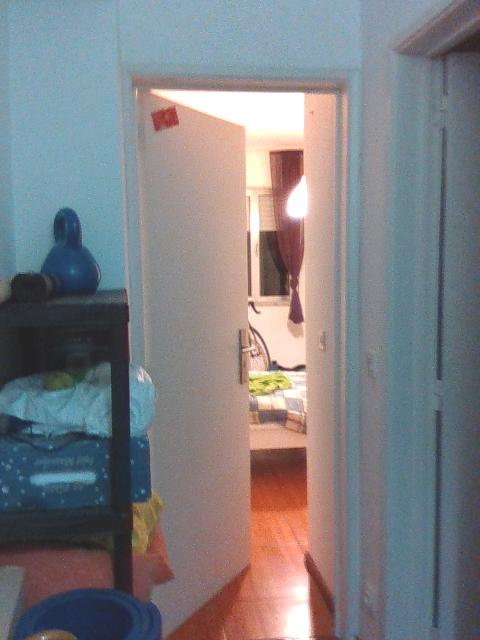semi_door: (122, 58, 381, 639)
